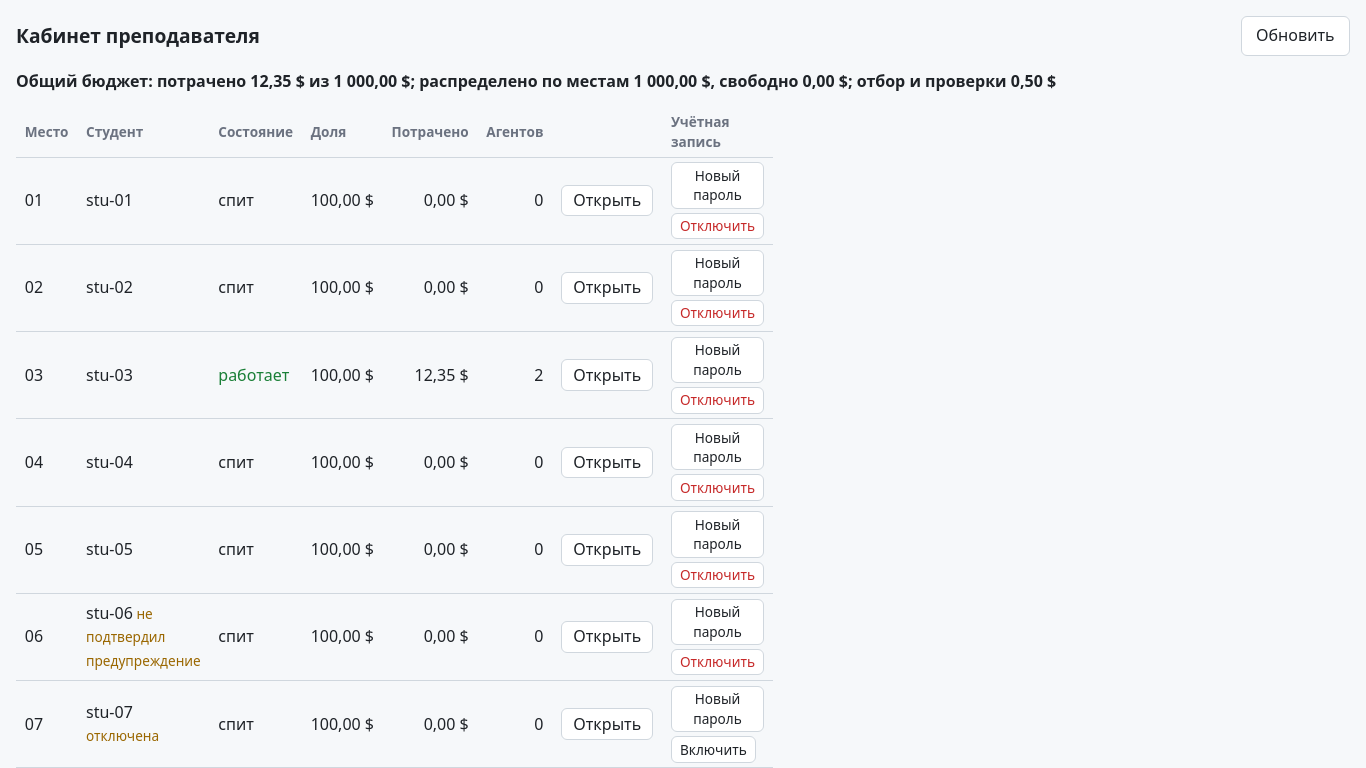
Test: overview_then_reader_is_read_only
Click the button "Открыть" in the row of "stu-03" at (607, 375), box left=561, top=359, right=653, bottom=391
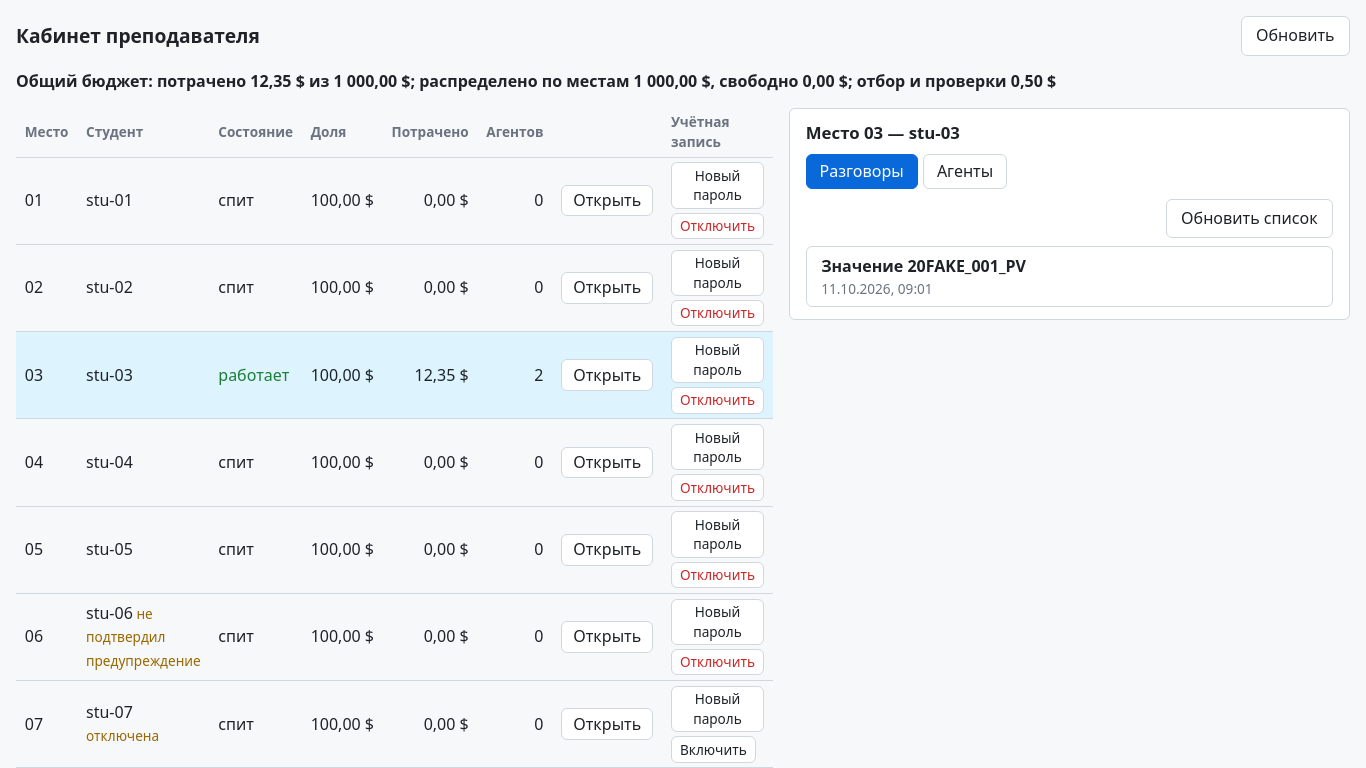
Click the button "Значение 20FAKE_001_PV 11.10.2026, 09:01" at (924, 266), box left=806, top=246, right=1333, bottom=307
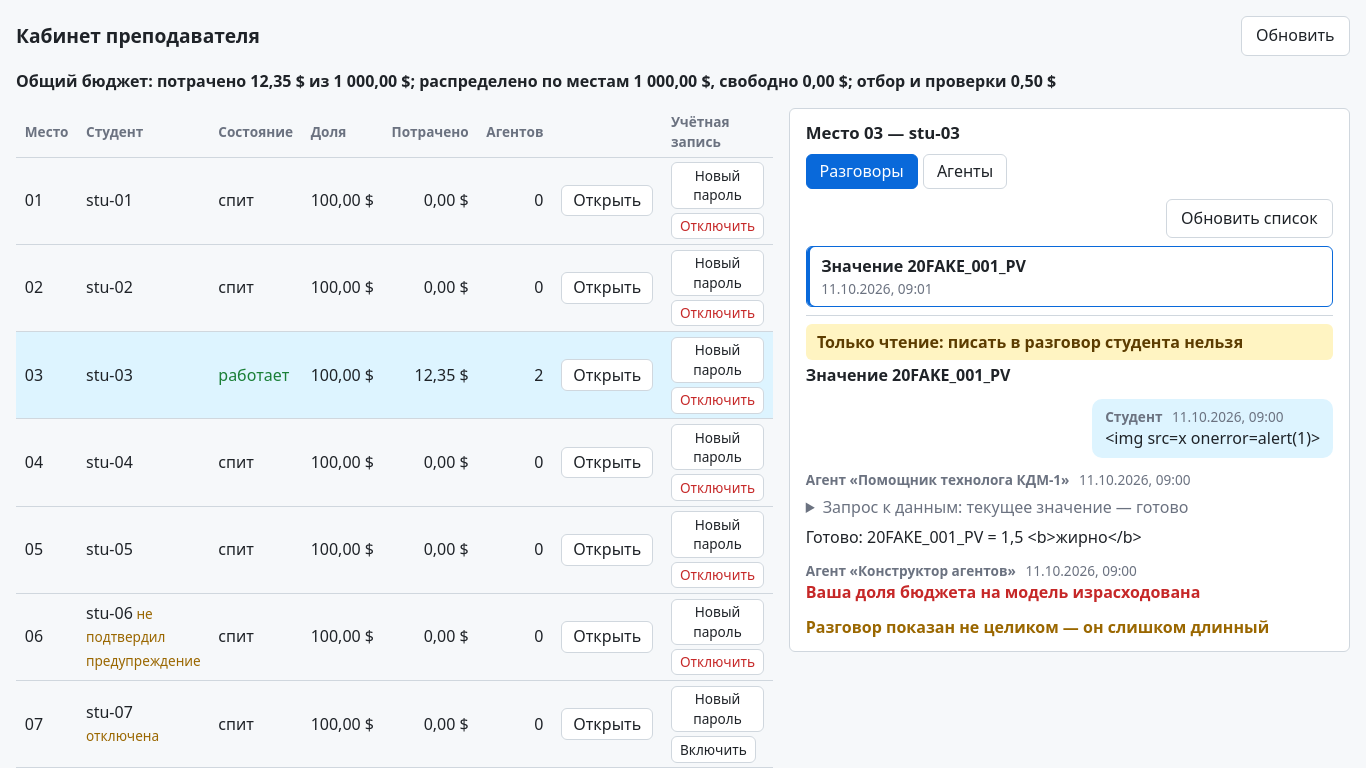
Now the element with class "transcript" is shown, box left=806, top=315, right=1333, bottom=639
Now the text "Только чтение: писать в разговор студента нельзя" is shown, box left=806, top=324, right=1333, bottom=360
Now the element with class "transcript" shows "Запрос к данным: текущее значение — готово", box left=823, top=496, right=1188, bottom=518
